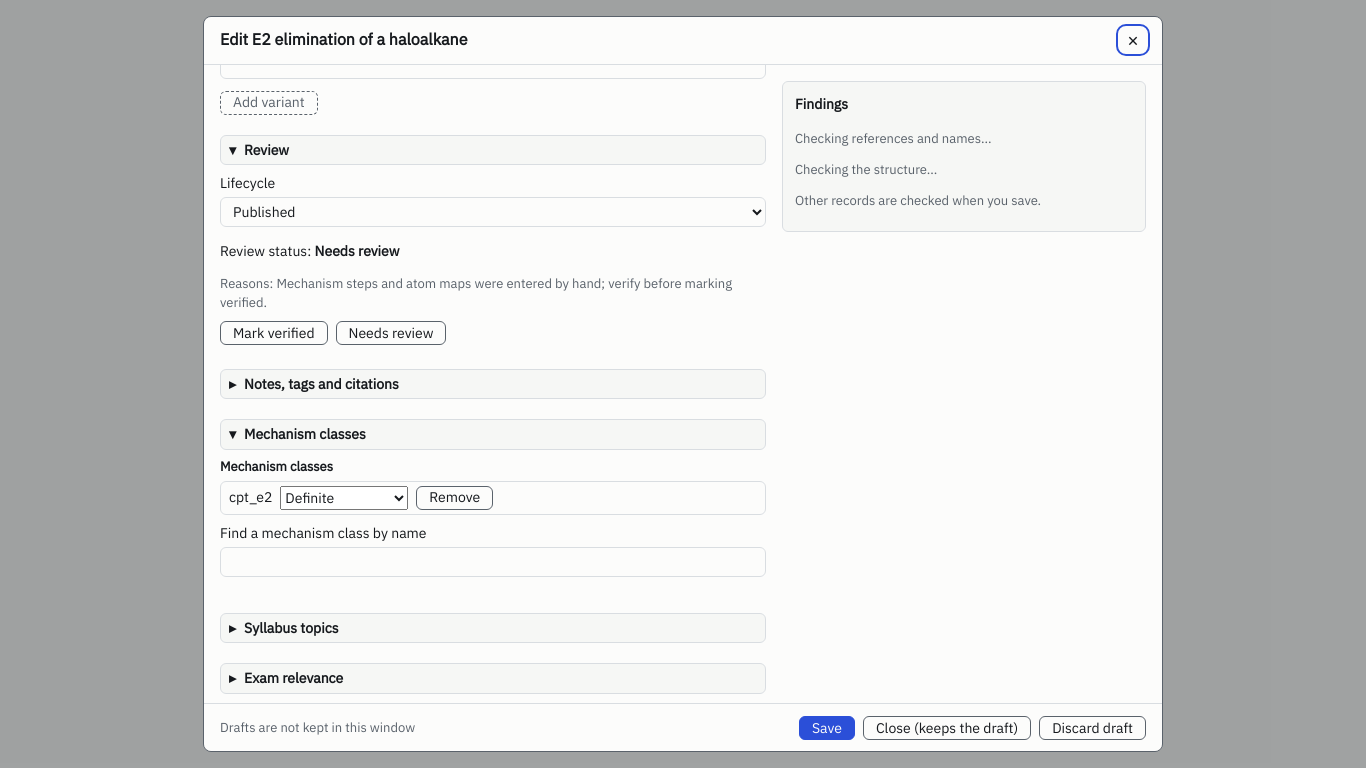
it: the shared fields in the mechanism › concepts, notes and tags are editable here; the review fields stay in the Review section
This screenshot has width=1366, height=768.
(page scrolled)
Click the button "▸ Notes, tags and citations" at (321, 384), box [220,369,766,399]
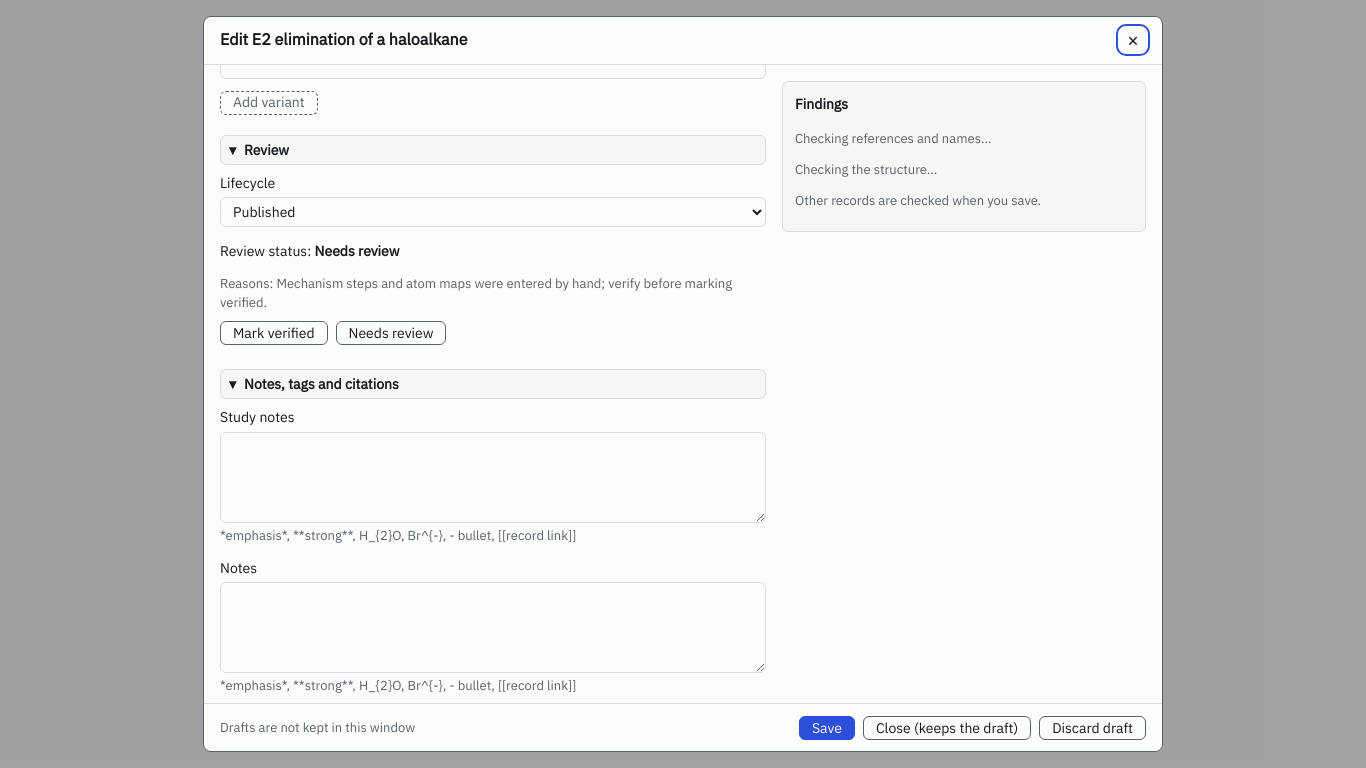
Type "E2 needs anti-periplanar H and X" into the text box labelled "Study notes" at (493, 477), box [220,432,766,523]
(page scrolled)
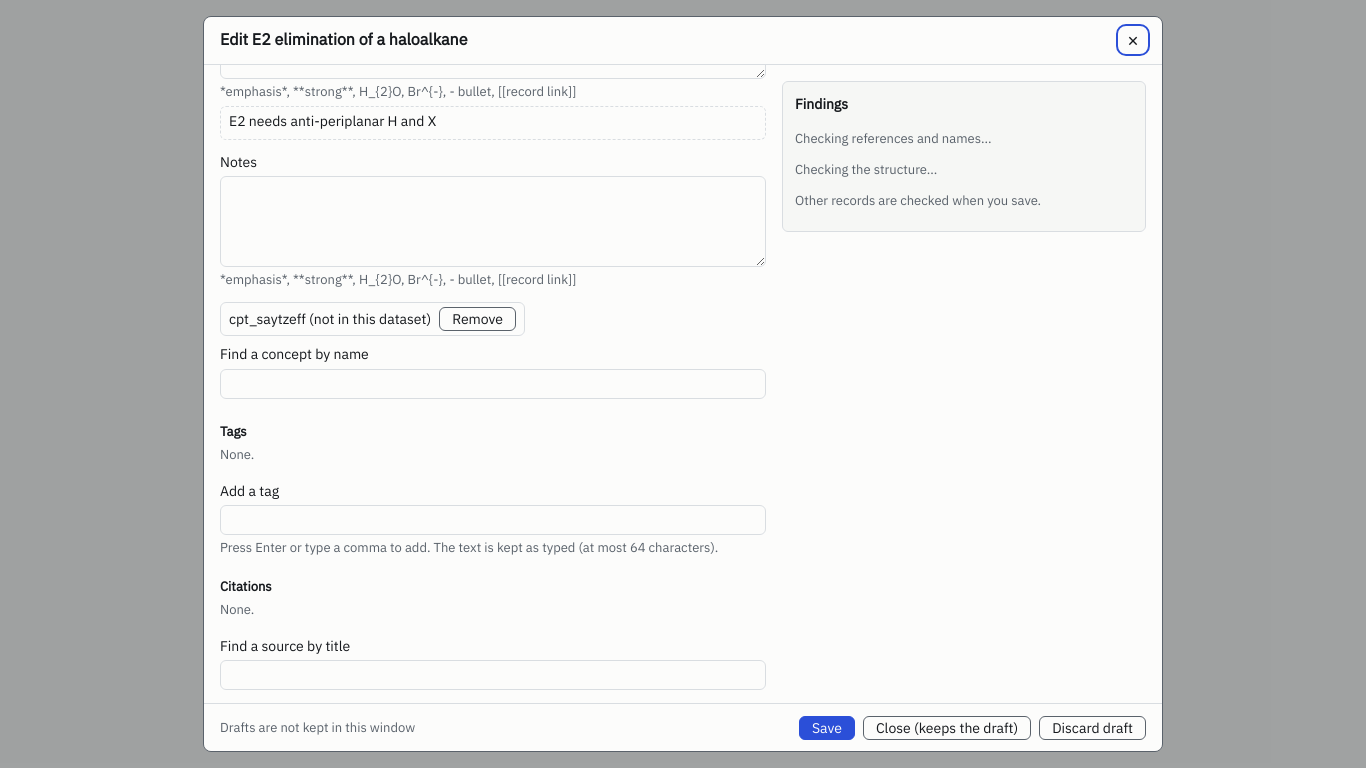
Expected: the search field labelled "Find a concept by name" is shown, [220,369,766,399]
